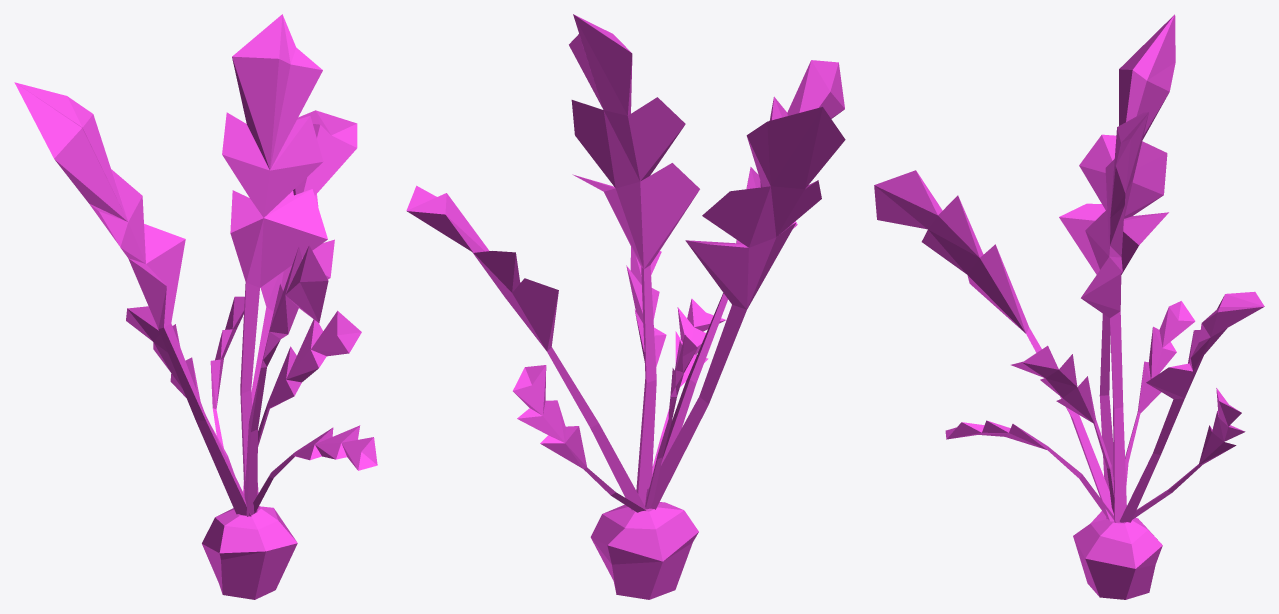
File: SM_Parsnip_Plant_Ripe_B.fbx
The picture shows the model from 3 angles, left to right: view 1: azimuth 30°, elevation 25°; view 2: azimuth 150°, elevation 25°; view 3: azimuth 270°, elevation 25°; orthographic projection. The views are drawn at different scales.
Visible parts, largest first — view 1: SM_Parsnip_Plant_Ripe_B; view 2: SM_Parsnip_Plant_Ripe_B; view 3: SM_Parsnip_Plant_Ripe_B.
Boxes of the visible parts, <box> form: SM_Parsnip_Plant_Ripe_B: <box>14,14,377,599</box>; SM_Parsnip_Plant_Ripe_B: <box>406,14,845,599</box>; SM_Parsnip_Plant_Ripe_B: <box>874,14,1264,599</box>.
Size of the model in its own units: 0.5726 by 0.8196 by 0.5789.
